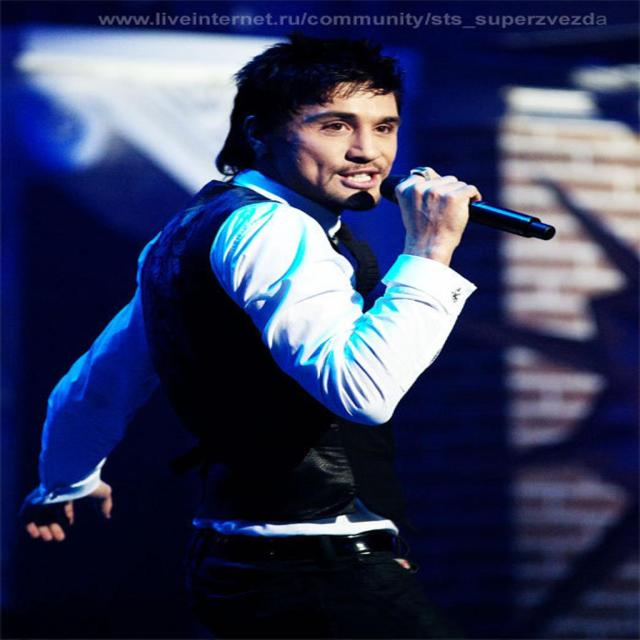Face: (274, 95, 419, 208)
